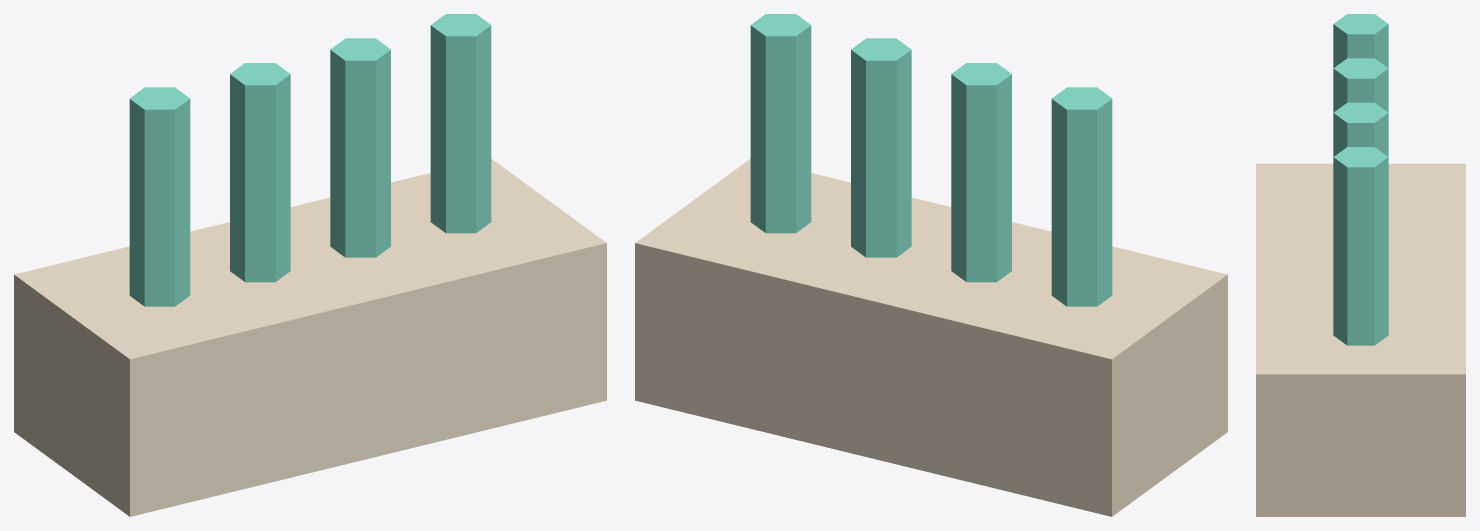
The picture shows the model from 3 angles, left to right: view 1: azimuth 30°, elevation 25°; view 2: azimuth 150°, elevation 25°; view 3: azimuth 270°, elevation 25°; orthographic projection. The views are drawn at different scales.
Visible parts, largest first — view 1: Rack, Tube, Tube.003, Tube.001, Tube.002; view 2: Rack, Tube, Tube.003, Tube.001, Tube.002; view 3: Rack, Tube.003, Tube.001, Tube.002, Tube.
Boxes of the visible parts, box(x1,y1,x2,y2) form: Rack: box(14, 159, 606, 516); Tube: box(129, 87, 190, 306); Tube.003: box(430, 14, 491, 233); Tube.001: box(230, 63, 290, 282); Tube.002: box(330, 38, 390, 257); Rack: box(635, 159, 1227, 516); Tube: box(1051, 87, 1112, 306); Tube.003: box(750, 14, 811, 233); Tube.001: box(951, 63, 1011, 282); Tube.002: box(851, 38, 911, 257); Rack: box(1256, 163, 1465, 516); Tube.003: box(1333, 147, 1388, 345); Tube.001: box(1333, 58, 1388, 112); Tube.002: box(1333, 102, 1388, 156); Tube: box(1333, 14, 1388, 67).
Bounding box in the file's own units: 0.38 × 0.27 × 0.16.
Materials: 1 (1 with a texture image).
